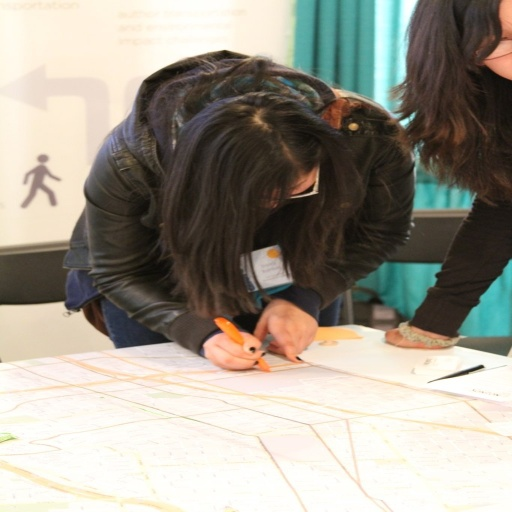hand: (245, 298, 326, 363), (202, 329, 262, 373), (379, 323, 447, 347)
